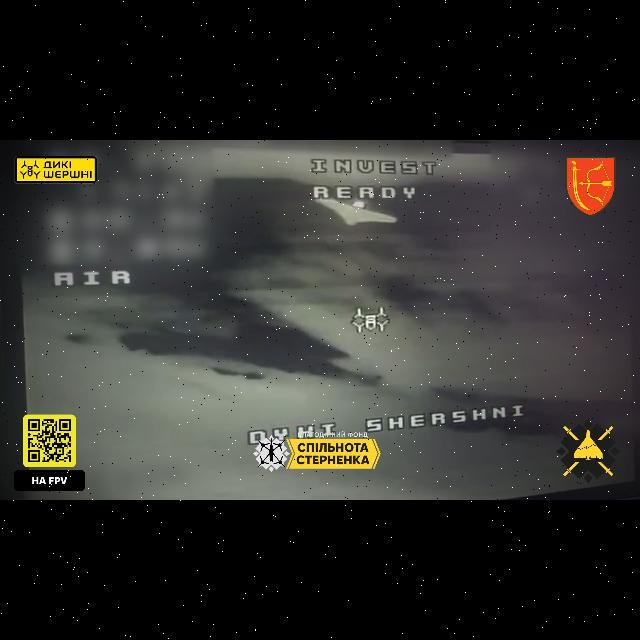Gerbera: (311, 196, 399, 227)
